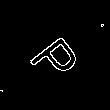P_NE: (24, 25, 86, 85)
